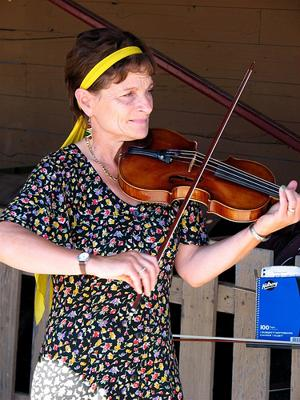person: (1, 28, 300, 400)
